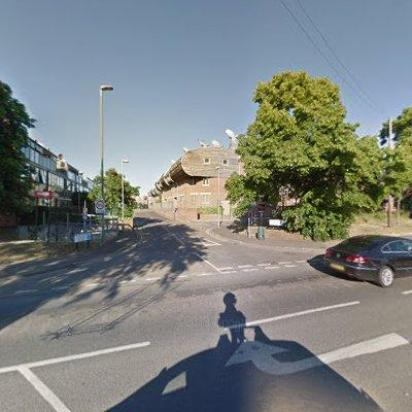moving-car: (325, 234, 411, 287)
